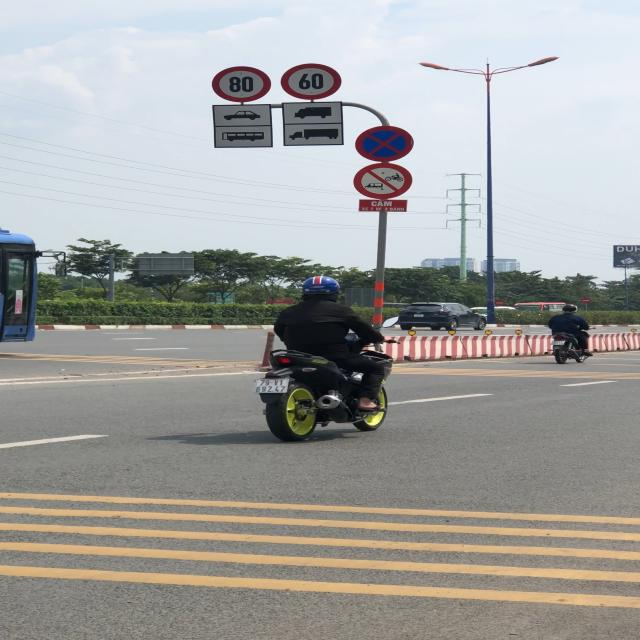Bien bao cam dung xe va do xe: (351, 125, 415, 165)
Bien bao toc do toi da cho phep: (211, 65, 274, 105), (280, 62, 344, 100)
